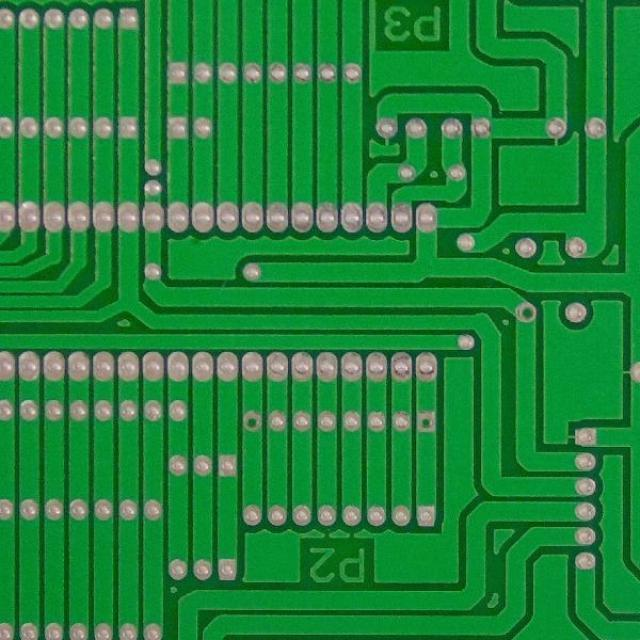Missing_Hole: (511, 300, 539, 324), (240, 410, 263, 432), (414, 412, 436, 434)
